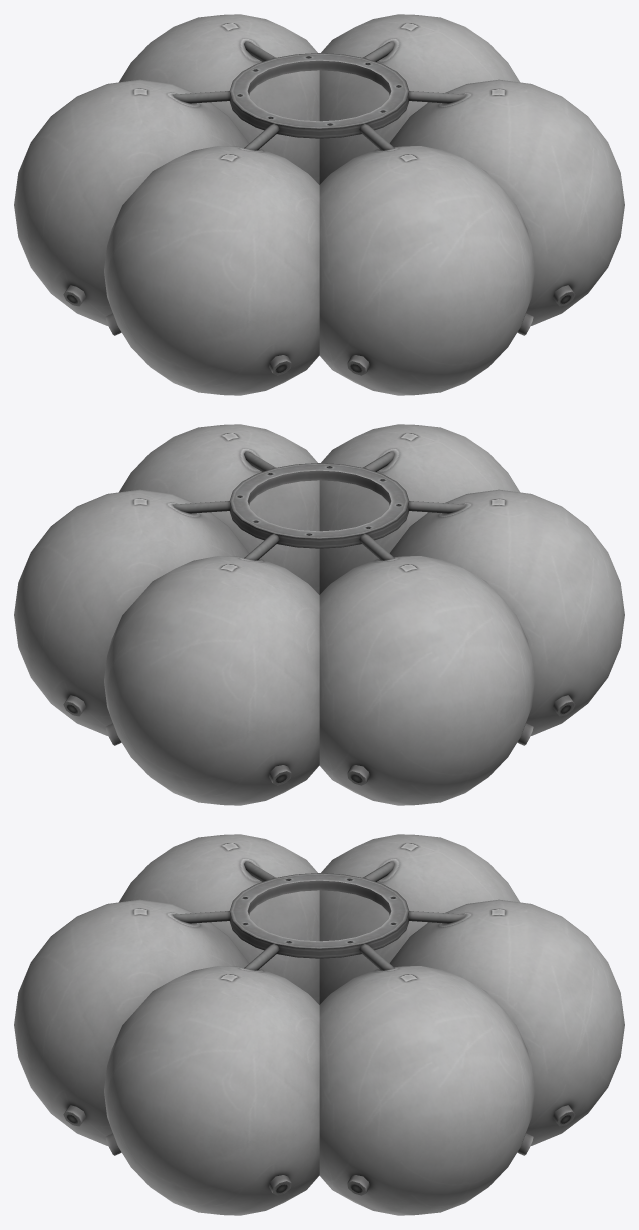
File: tantares_us_fuel_tank_s0_1.obj
3 views of the same model, one above another, from view 1: azimuth 30°, elevation 25°; view 2: azimuth 150°, elevation 25°; view 3: azimuth 270°, elevation 25° (orthographic).
Visible parts, largest first — view 1: mesh1; view 2: mesh1; view 3: mesh1.
Part boxes in pixels (x1,y1,x2,y2): mesh1: (14,14,624,395); mesh1: (14,424,624,805); mesh1: (14,834,624,1215).
Size of the model in its own units: 1.96 by 0.875 by 2.12.
Materials: 1 (1 with a texture image).
